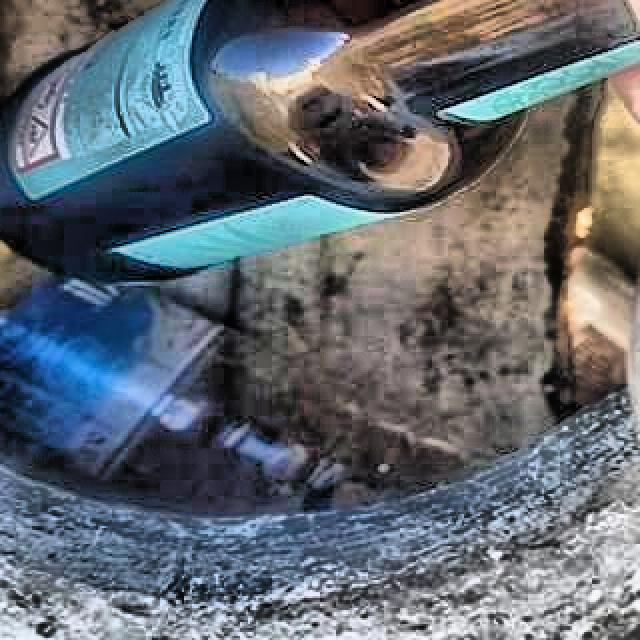glass: (0, 0, 640, 280)
